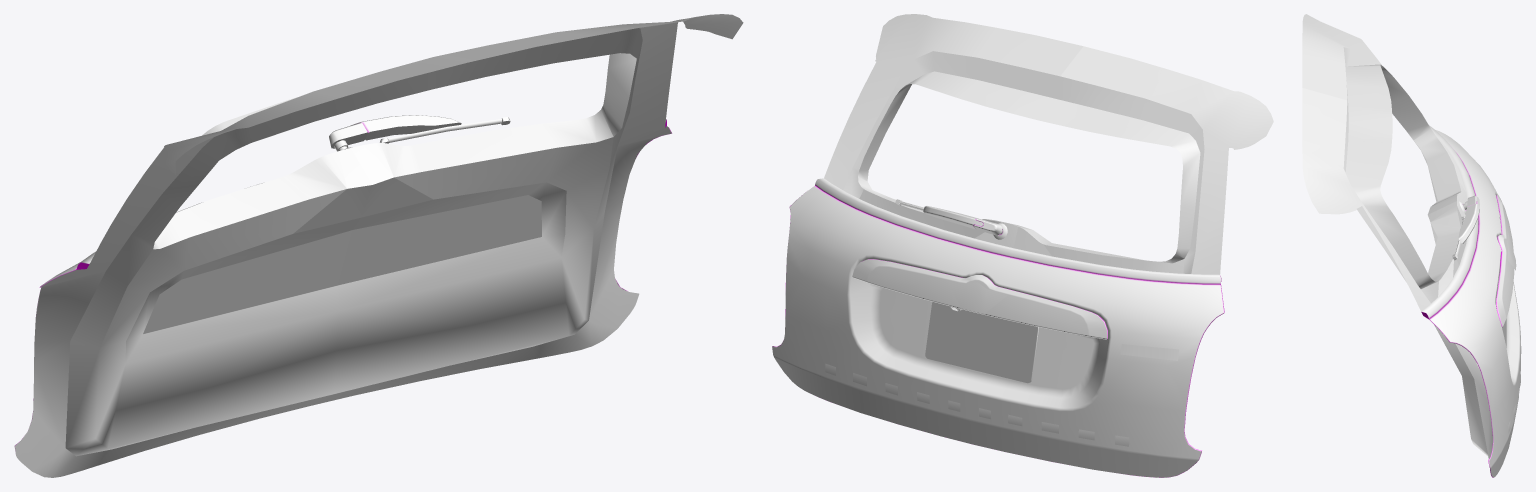
File: Car_Mini_CountrymanJCW_2017_Boot_SetA.fbx
3 renders of one model, left to right at view 1: azimuth 30°, elevation 25°; view 2: azimuth 150°, elevation 25°; view 3: azimuth 270°, elevation 25°, orthographic. The views are drawn at different scales.
Parts seen in each view (by area): view 1: Boot 6; view 2: Boot 6; view 3: Boot 6.
Part boxes in pixels (<box>): Boot 6: <box>14,14,743,477</box>; Boot 6: <box>772,14,1273,477</box>; Boot 6: <box>1302,14,1521,477</box>.
Bounding box in the file's own units: 1.25 × 0.8744 × 0.5675.
